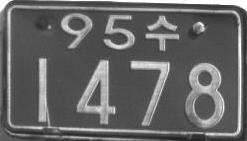1: (26, 57, 60, 122)
4: (76, 59, 115, 124)
5: (102, 14, 136, 49)
7: (129, 59, 170, 126)
8: (183, 62, 225, 129)
9: (59, 12, 93, 49)
수: (145, 15, 178, 51)
